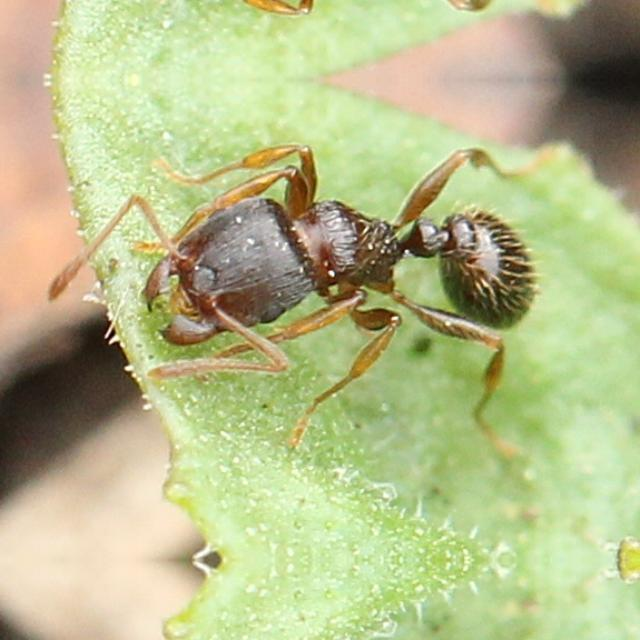Tetramorium: (73, 130, 607, 438)
